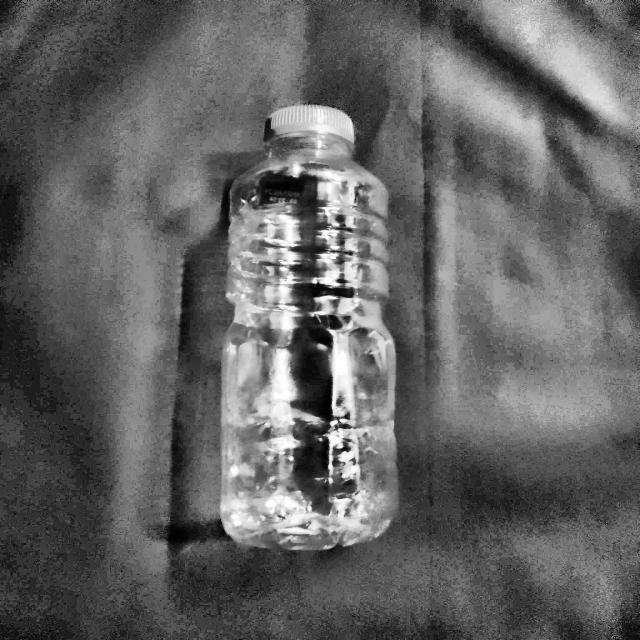Plastic-Bottle: (213, 98, 404, 558)
